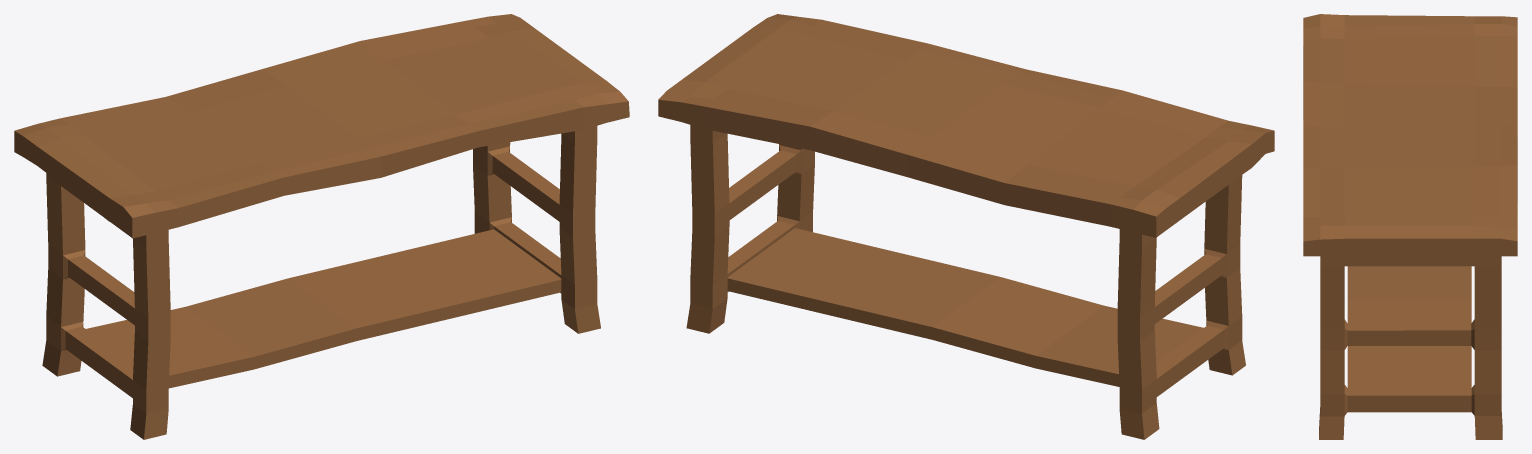
File: Table.fbx
3 renders of one model, left to right at view 1: azimuth 30°, elevation 25°; view 2: azimuth 150°, elevation 25°; view 3: azimuth 270°, elevation 25°, orthographic. The views are drawn at different scales.
Visible parts, largest first — view 1: Cube.267; view 2: Cube.267; view 3: Cube.267.
Boxes of the visible parts, left/top/right/bottom form: Cube.267: left=14, top=14, right=629, bottom=439; Cube.267: left=658, top=14, right=1274, bottom=439; Cube.267: left=1303, top=14, right=1517, bottom=439.
Bounding box in the file's own units: 593 × 273 × 245.
